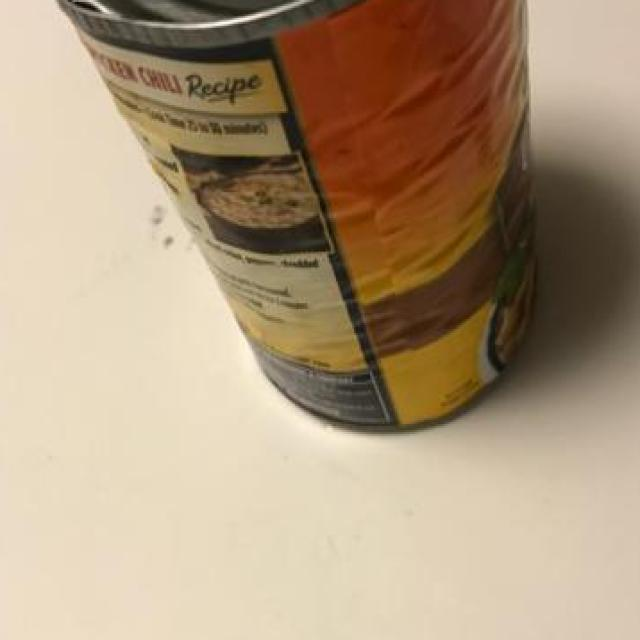organic: (52, 7, 550, 418)
